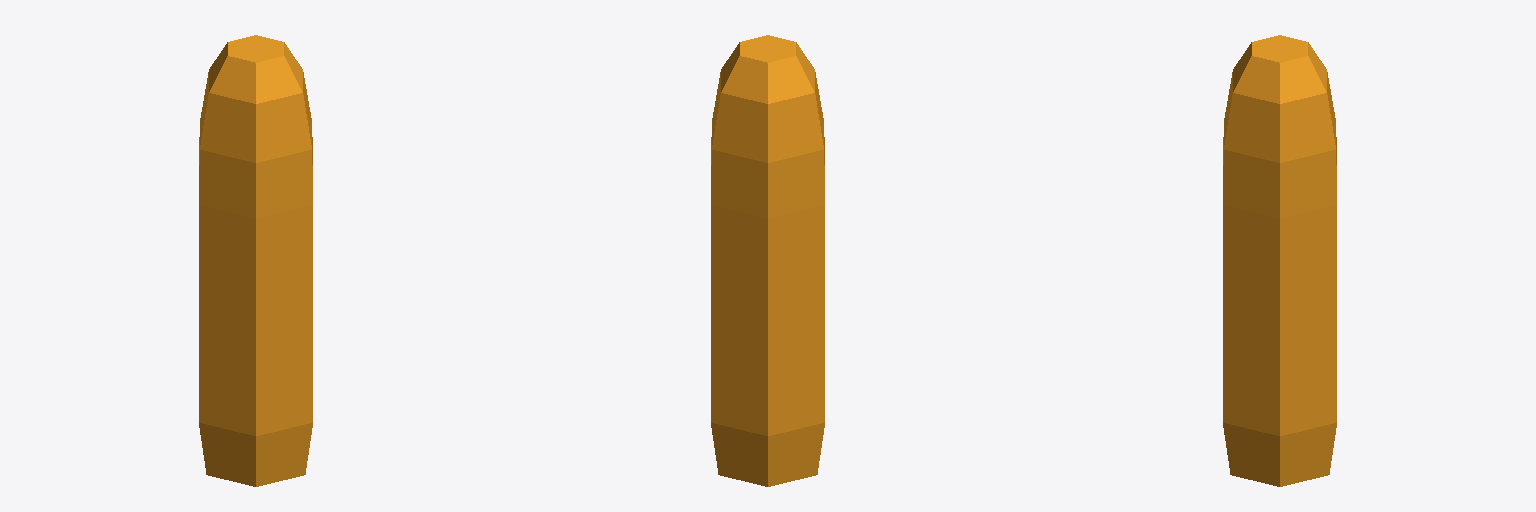
Rendered from Corn.obj.
3 renders of one model, left to right at view 1: azimuth 30°, elevation 25°; view 2: azimuth 150°, elevation 25°; view 3: azimuth 270°, elevation 25°, orthographic.
Parts seen in each view (by area): view 1: Corn; view 2: Corn; view 3: Corn.
Boxes of the visible parts, <box> form: Corn: <box>199,35,312,486</box>; Corn: <box>711,35,824,486</box>; Corn: <box>1223,35,1336,486</box>.
Bounding box in the file's own units: 1.1 × 3.8 × 0.9526.